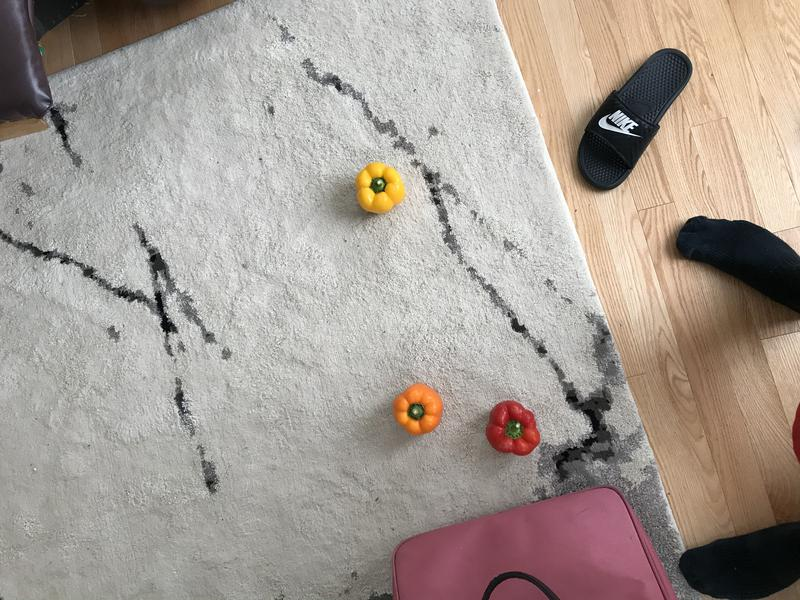orange_pepper: (389, 380, 446, 441)
red_pepper: (481, 396, 545, 460)
yellow_pepper: (353, 158, 407, 218)
